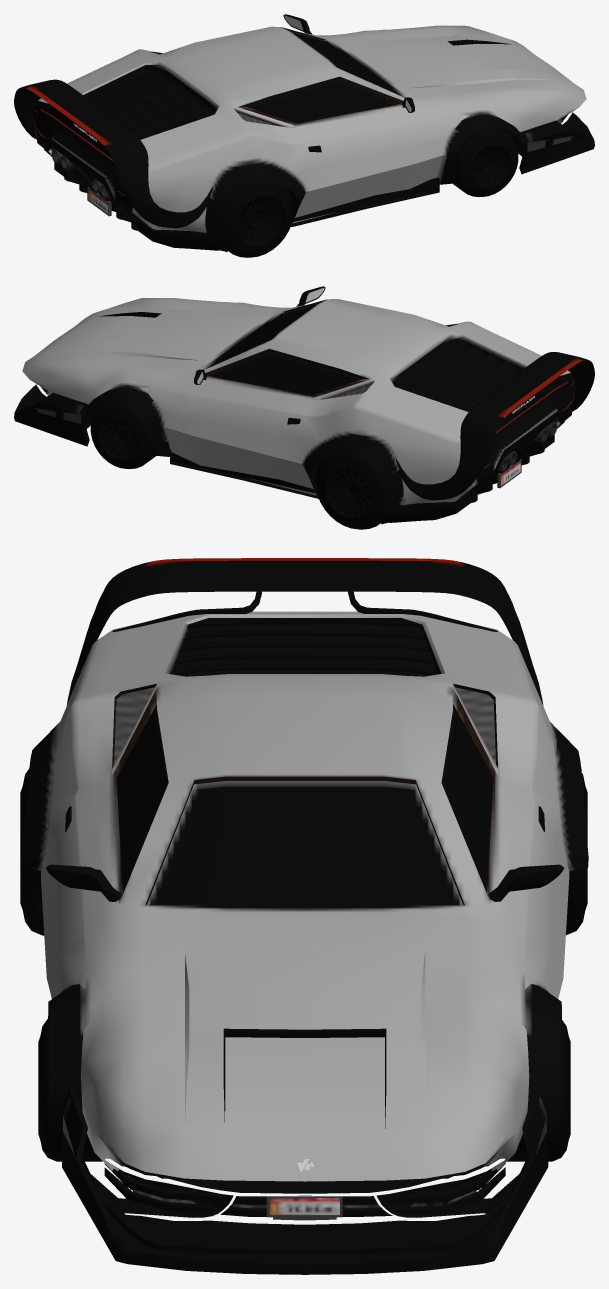
The model's file is low_poly_car.glb.
The picture shows the model from 3 angles, top to bottom: view 1: azimuth 30°, elevation 25°; view 2: azimuth 150°, elevation 25°; view 3: azimuth 270°, elevation 25°; orthographic projection. The views are drawn at different scales.
Parts seen in each view (by area): view 1: Plane.001, Cylinder.002, Cylinder.003; view 2: Plane.001, Cylinder.005, Cylinder.001; view 3: Plane.001, Cylinder.003, Cylinder.001, Cylinder.002.
Boxes of the visible parts, x1,y1,x2,y2 form: Plane.001: (14,14,594,251); Cylinder.002: (221,178,293,257); Cylinder.003: (453,127,518,197); Plane.001: (14,286,594,524); Cylinder.005: (315,450,387,529); Cylinder.001: (90,399,155,469); Plane.001: (21,558,588,1274); Cylinder.003: (38,1018,102,1161); Cylinder.001: (507,1019,570,1161); Cylinder.002: (20,769,44,935).
Bounding box in the file's own units: 5.66 × 1.45 × 2.8.
Materials: 1 (1 with a texture image).
